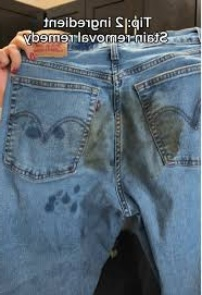earth: (88, 101, 167, 170), (162, 120, 184, 157)
